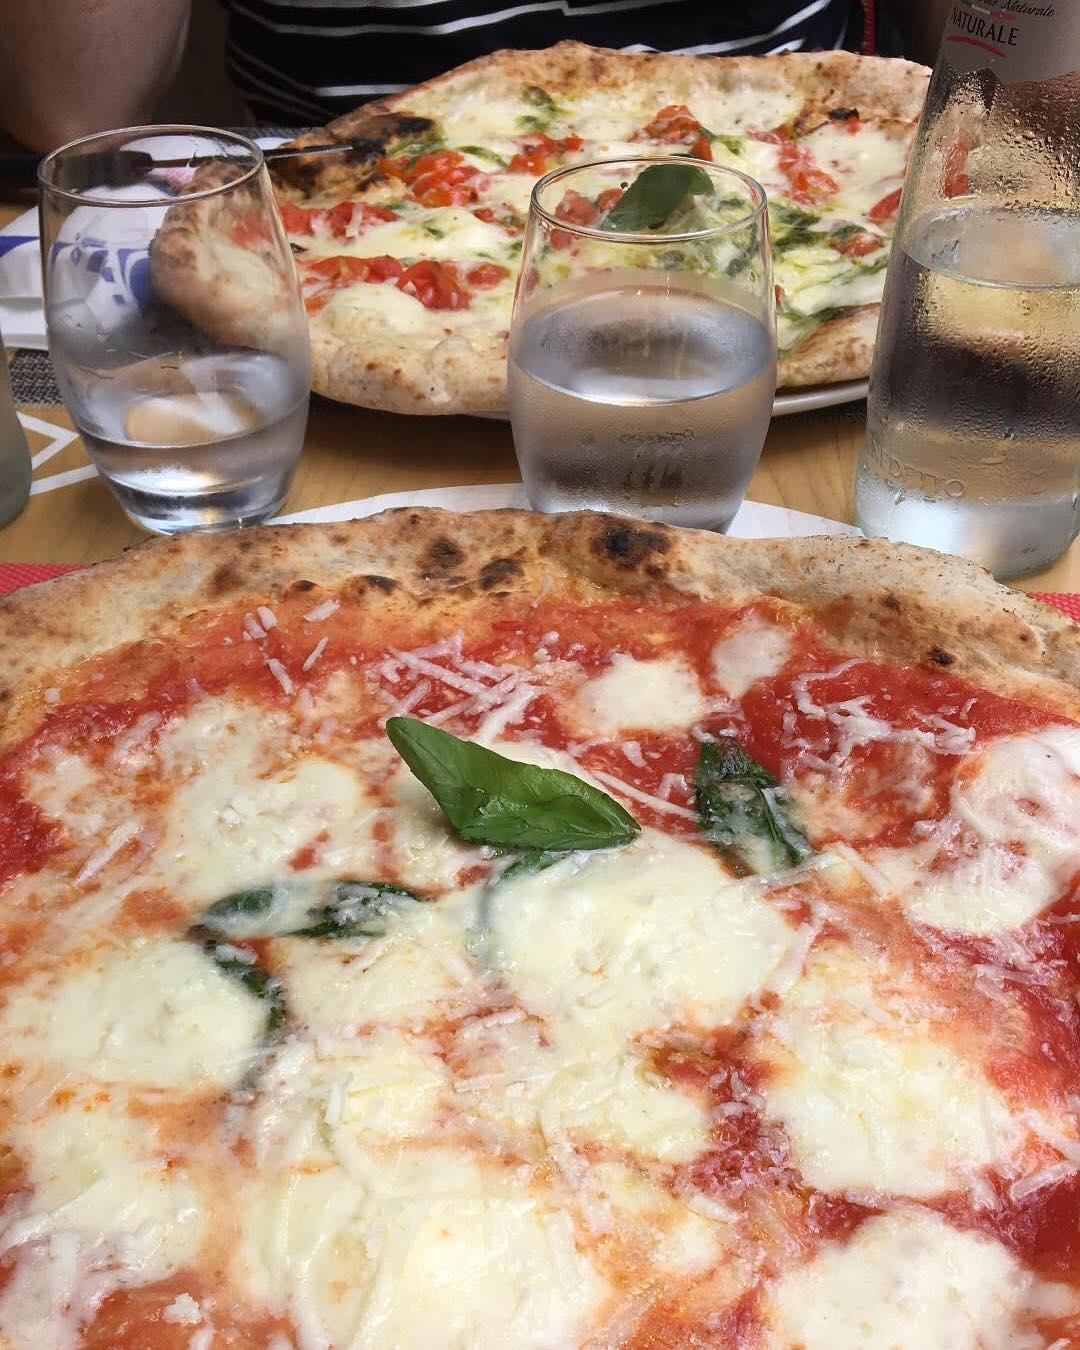Basil: (378, 681, 640, 864), (682, 728, 808, 892), (207, 864, 408, 951), (734, 201, 856, 262), (622, 161, 714, 226)
Cheese: (266, 1151, 661, 1335), (259, 962, 645, 1137), (771, 982, 1028, 1188), (0, 935, 248, 1111), (865, 728, 1074, 931), (505, 868, 771, 1018), (0, 1122, 238, 1285), (776, 1228, 1035, 1335), (145, 737, 368, 851), (712, 99, 857, 177), (343, 210, 492, 284)
Pizza: (4, 505, 1080, 1350), (168, 42, 994, 428)
Tomatoes: (323, 251, 472, 304), (411, 155, 483, 228), (546, 186, 605, 249), (776, 155, 843, 201), (871, 186, 947, 222), (506, 131, 570, 171), (831, 228, 883, 259)
